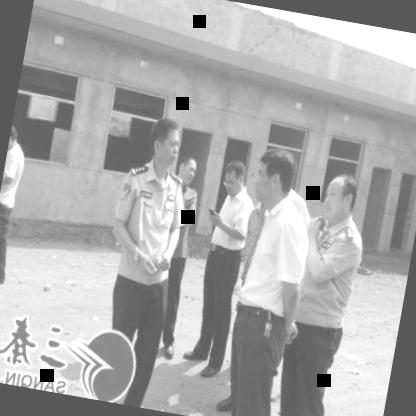head: (143, 110, 191, 176), (250, 145, 297, 212), (320, 168, 362, 224), (219, 155, 250, 198), (171, 154, 198, 192), (6, 120, 24, 161)
